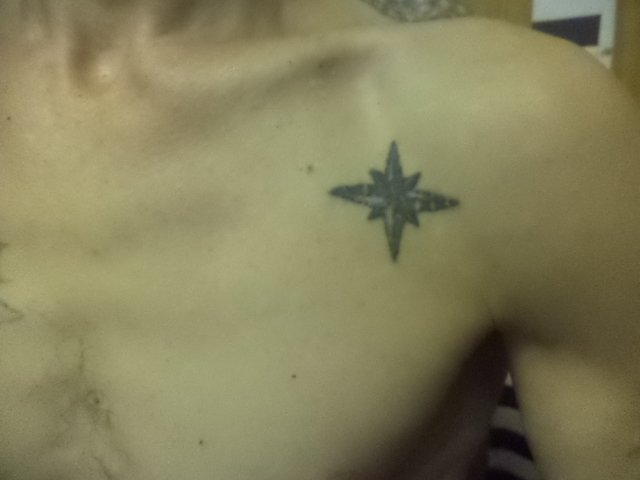tatu4_zvezda: (332, 141, 462, 267)
